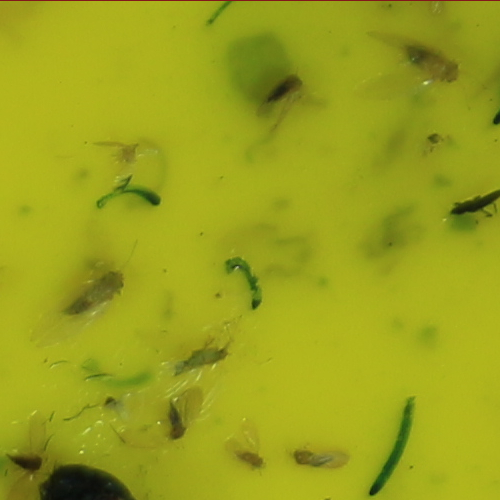psylla: (63, 266, 128, 323), (399, 36, 464, 87), (171, 342, 232, 375), (261, 69, 308, 105), (165, 395, 193, 445), (289, 442, 333, 467), (7, 451, 44, 474), (237, 453, 269, 472)
